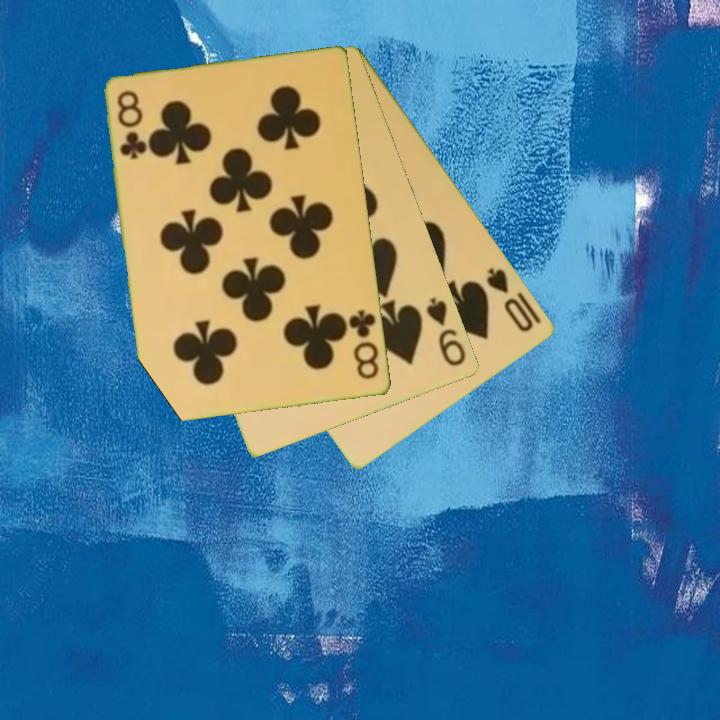10s: (483, 264, 537, 336)
8c: (346, 306, 383, 383), (114, 87, 149, 163)
9s: (423, 294, 469, 370)
